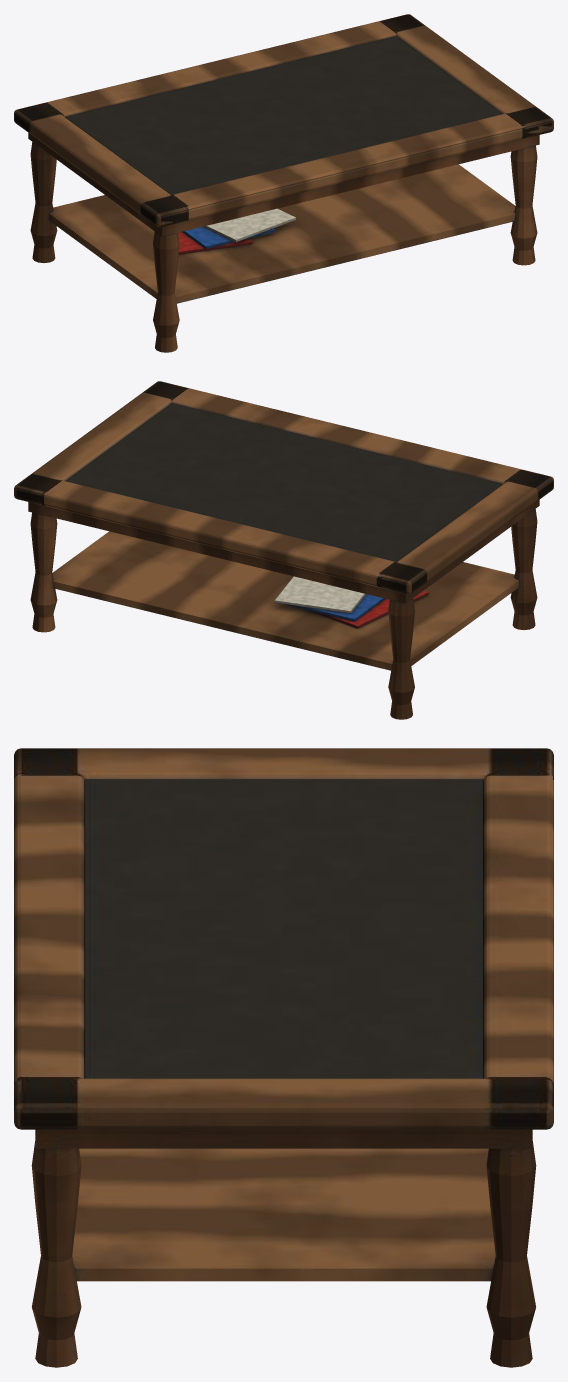
Rendered from wz_table.glb.
3 renders of one model, top to bottom at view 1: azimuth 30°, elevation 25°; view 2: azimuth 150°, elevation 25°; view 3: azimuth 270°, elevation 25°, orthographic. The views are drawn at different scales.
Visible parts, largest first — view 1: wz_table; view 2: wz_table; view 3: wz_table.
Boxes of the visible parts, bbox=[...] form: wz_table: bbox=[14, 14, 553, 352]; wz_table: bbox=[14, 381, 553, 719]; wz_table: bbox=[14, 748, 553, 1367].
Size of the model in its own units: 1.2 by 0.42 by 0.76.
Materials: 1 (1 with a texture image).
